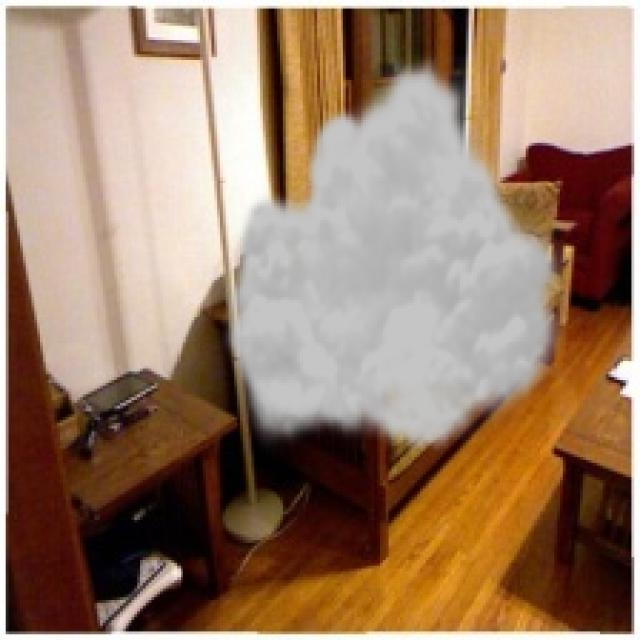smoke: (220, 52, 571, 454)
